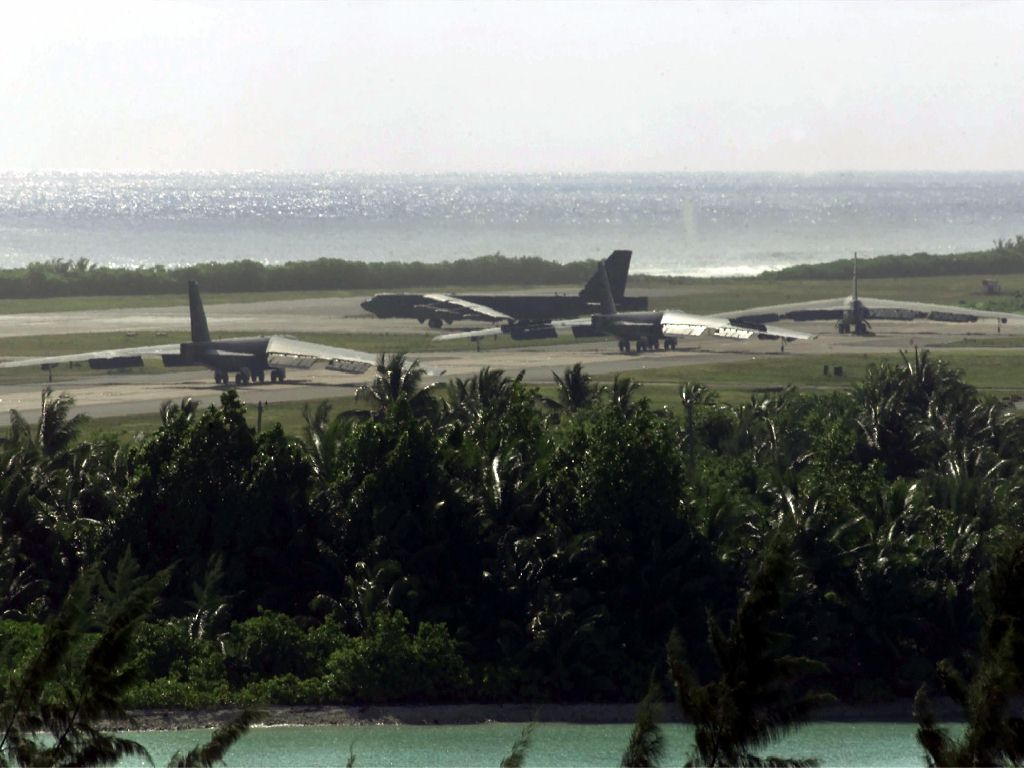B52: (1, 279, 447, 384), (430, 261, 820, 353), (703, 250, 1024, 335), (359, 248, 649, 329)
